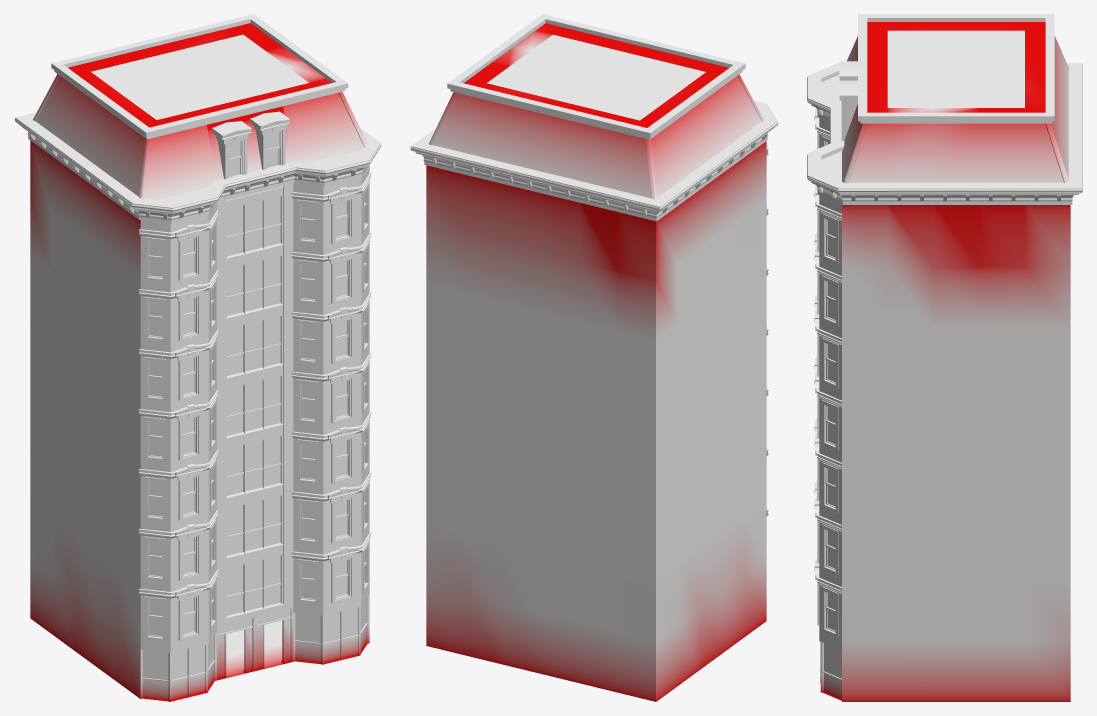
The model's file is Building_Medium_1.gltf.
3 renders of one model, left to right at view 1: azimuth 30°, elevation 25°; view 2: azimuth 150°, elevation 25°; view 3: azimuth 270°, elevation 25°, orthographic. The views are drawn at different scales.
Visible parts, largest first — view 1: Building_Medium_1; view 2: Building_Medium_1; view 3: Building_Medium_1.
Part boxes in pixels (<box>): Building_Medium_1: <box>14,14,381,701</box>; Building_Medium_1: <box>410,14,778,701</box>; Building_Medium_1: <box>807,14,1082,701</box>.
Size of the model in its own units: 13.06 by 27.92 by 12.06.
